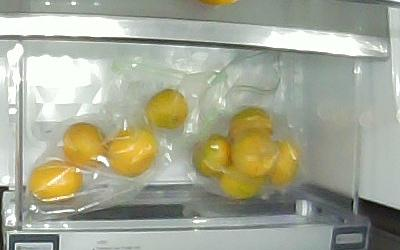tangerine_vinyl: (107, 128, 162, 176), (229, 128, 279, 177), (28, 161, 86, 201), (142, 88, 189, 136), (63, 122, 112, 165), (194, 134, 229, 179), (221, 166, 267, 200), (270, 141, 302, 188), (232, 106, 273, 134)
